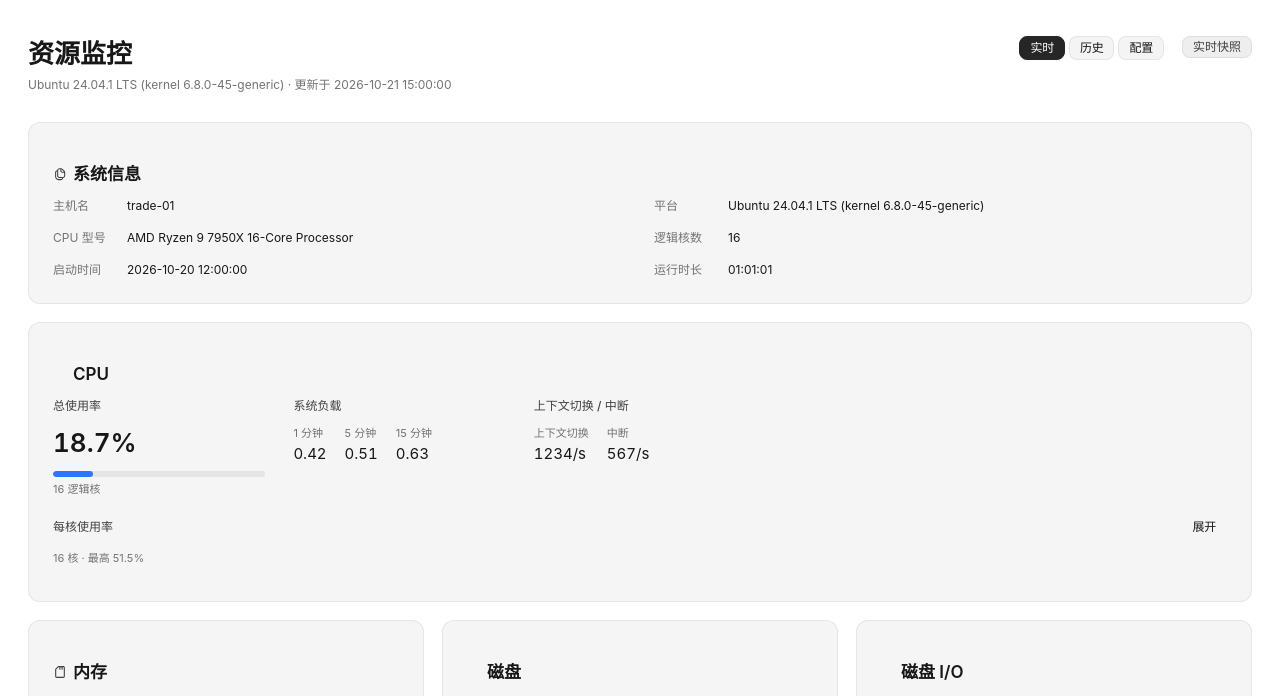
Test case: MonitorView 历史视图（#79 三态） › 有数据但被点数上限截断：显示「仅显示最近一段」提示
This screenshot has width=1280, height=696.
Step 1. Click the tab with test id "monitor-tab-history" → (1092, 48), box [1069,36,1114,60]
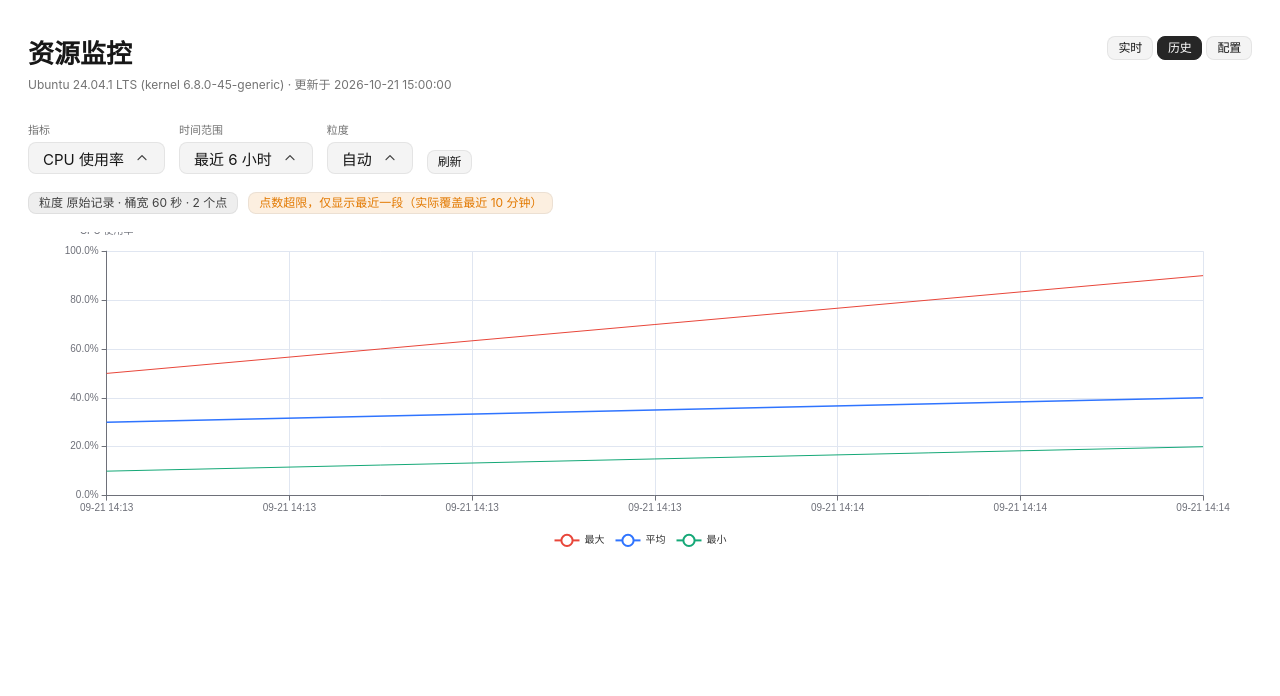
Expected: the text "点数超限，仅显示最近一段（实际覆盖最近 10 分钟）" is shown, [248,192,554,214]
